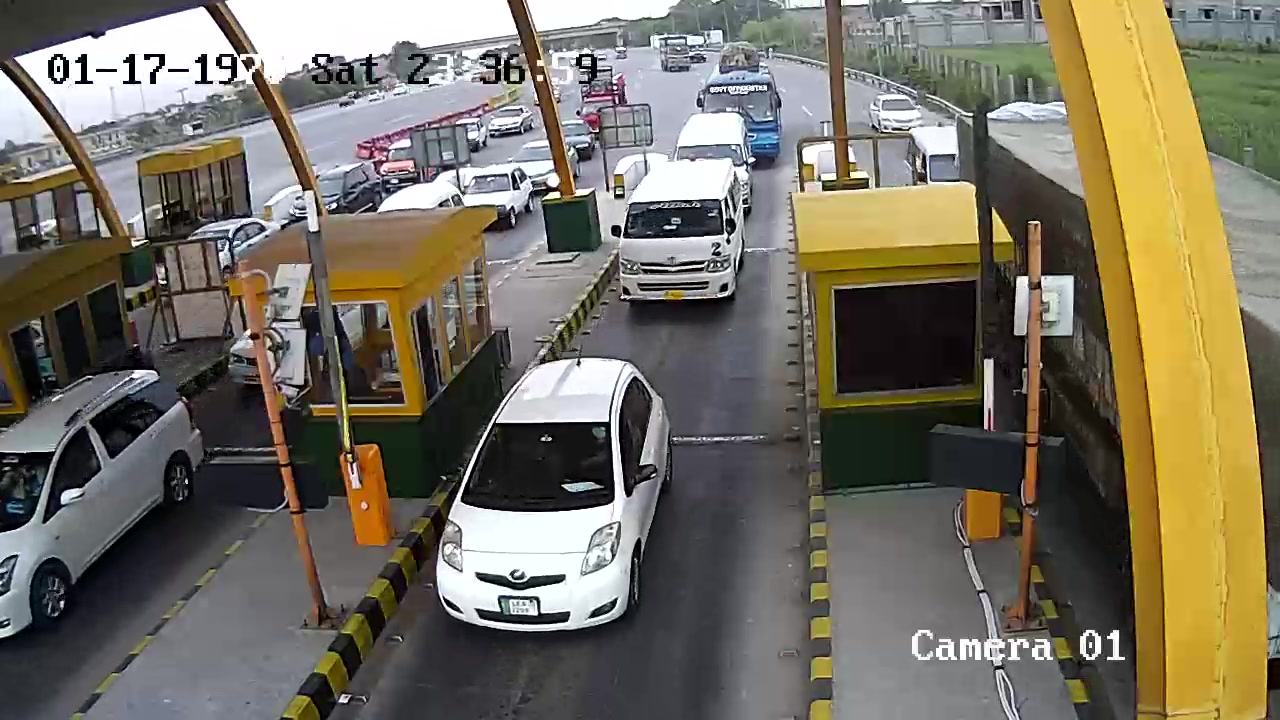F1: (428, 351, 682, 640)
F3: (607, 158, 755, 310)
